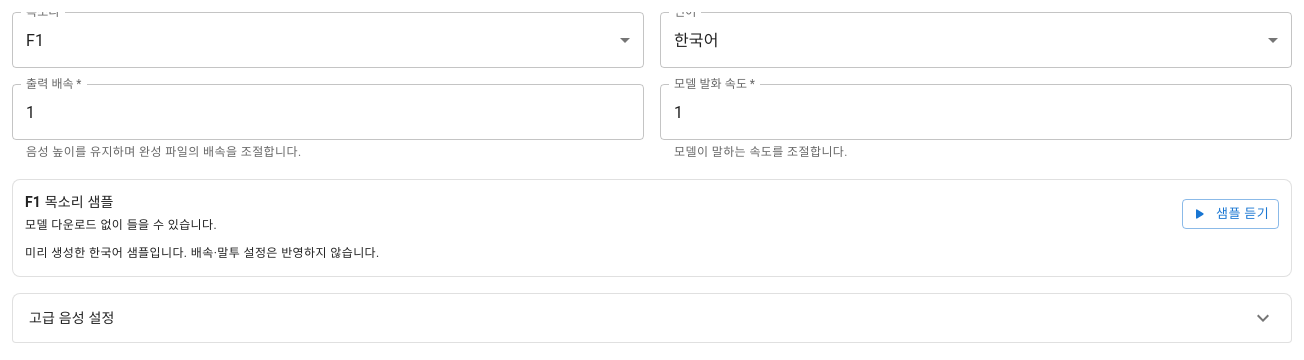
voice samples › stops when the containing form becomes disabled
The image size is (1304, 360).
Step 1. Click the button "샘플 듣기" → [1231, 214], box [1182,198,1279,229]
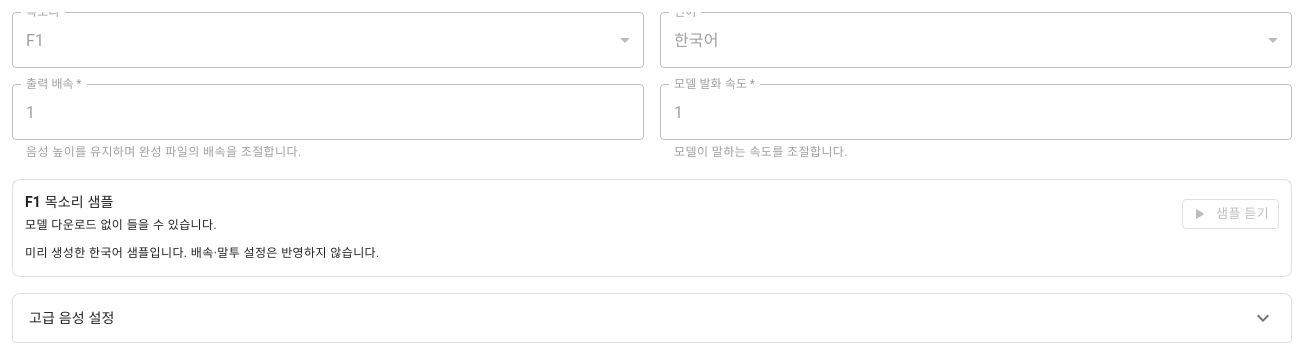
Now the button "샘플 듣기" is disabled, box [1182,198,1279,229]
